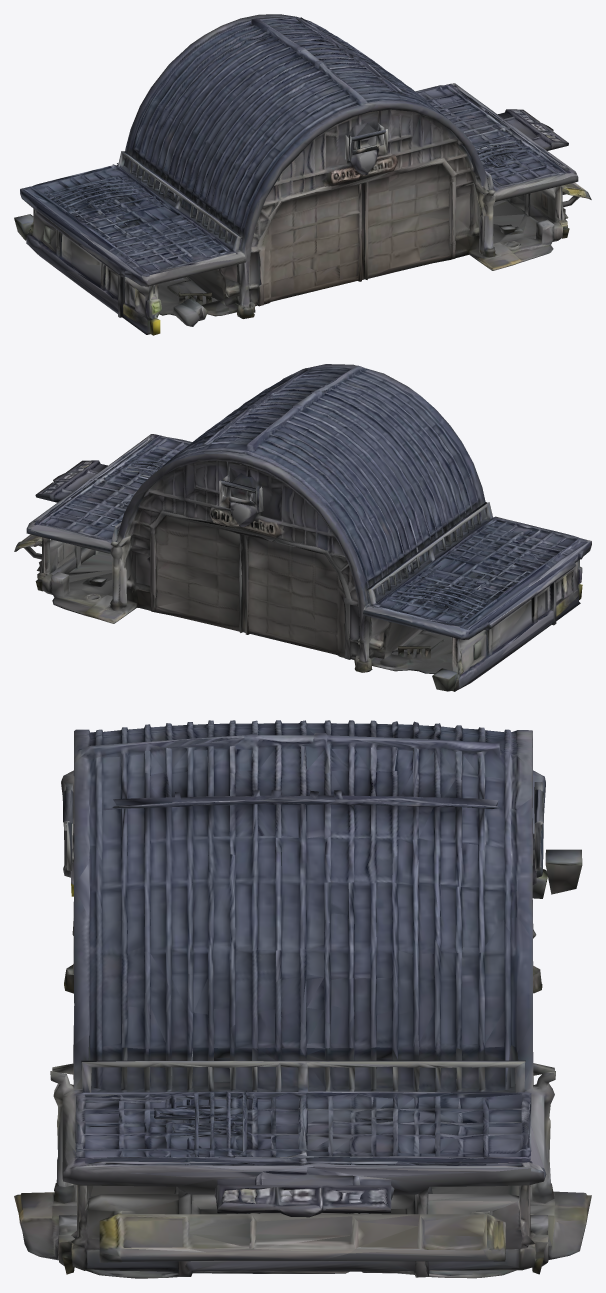
Rendered from bld_ind_hangar.fbx.
3 views of the same model, one above another, from view 1: azimuth 30°, elevation 25°; view 2: azimuth 150°, elevation 25°; view 3: azimuth 270°, elevation 25° (orthographic). The views are drawn at different scales.
Parts seen in each view (by area): view 1: bld_ind_hangar_LOD0; view 2: bld_ind_hangar_LOD0; view 3: bld_ind_hangar_LOD0.
Boxes of the visible parts, <box> form: bld_ind_hangar_LOD0: <box>14,14,591,335</box>; bld_ind_hangar_LOD0: <box>14,364,591,691</box>; bld_ind_hangar_LOD0: <box>14,720,591,1278</box>.
Size of what is drawn, in the model's own units: 0.9842 by 0.3803 by 0.5514.
